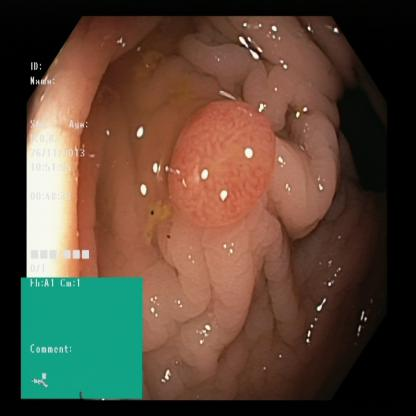Labels: (25, 53, 103, 274), (25, 276, 137, 402)
Polyps: (171, 93, 277, 234)
